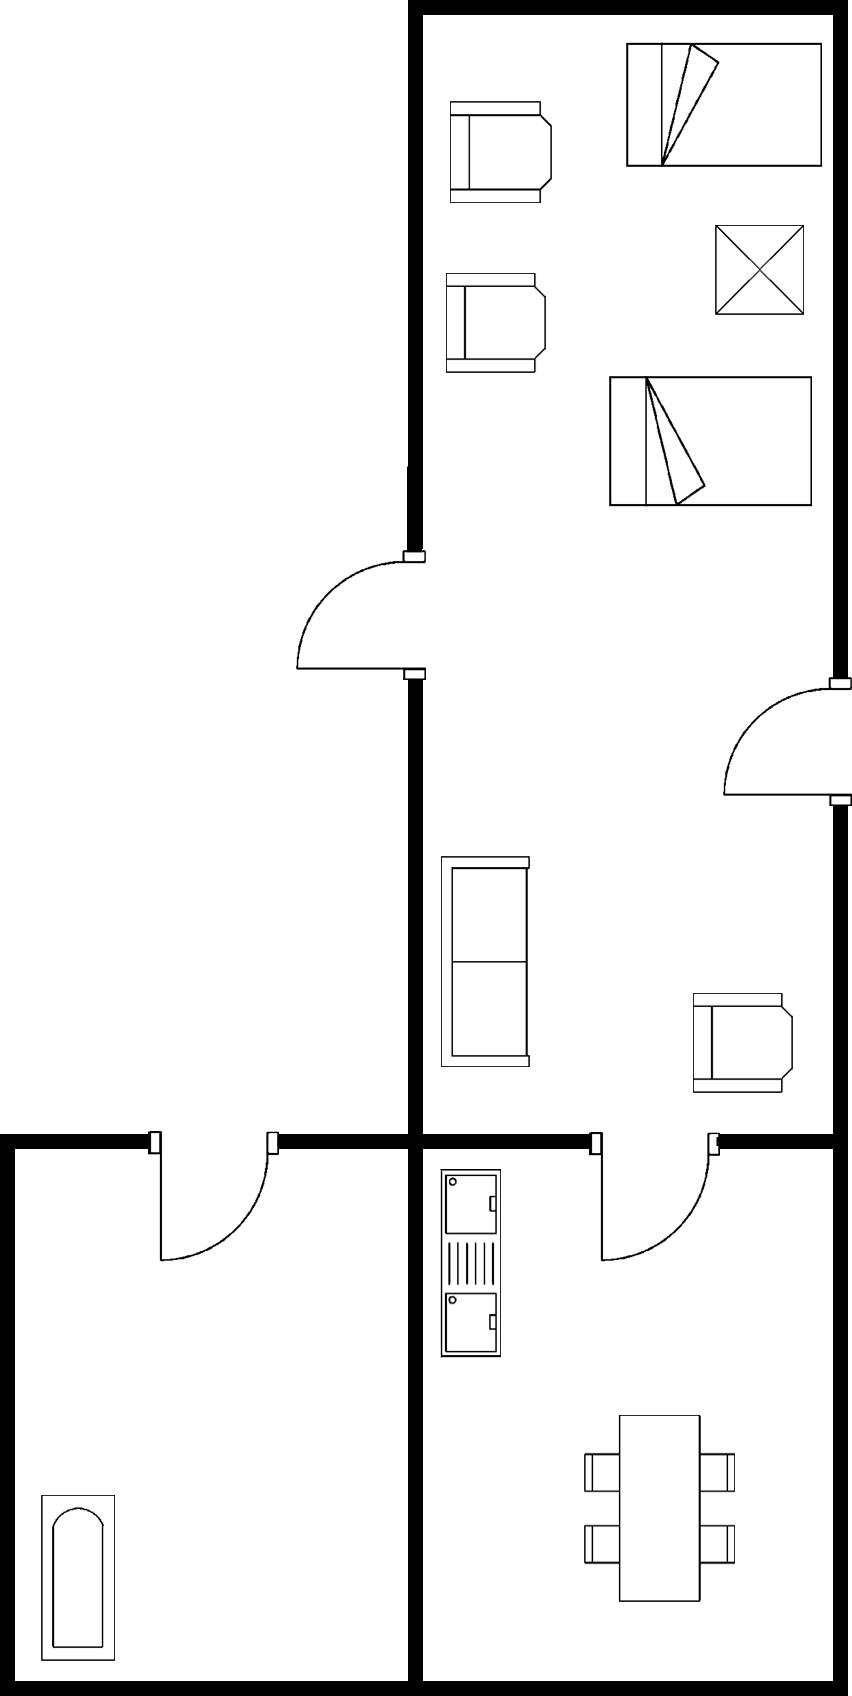armchair: (438, 267, 555, 382), (683, 982, 796, 1101), (443, 95, 558, 209)
bed: (600, 370, 818, 515), (620, 37, 826, 174)
coffee_table: (710, 217, 811, 324)
dining_table: (580, 1411, 736, 1610)
large_sofa: (431, 844, 538, 1076)
tub: (28, 1488, 126, 1670)
twin_sink: (433, 1161, 511, 1368)
